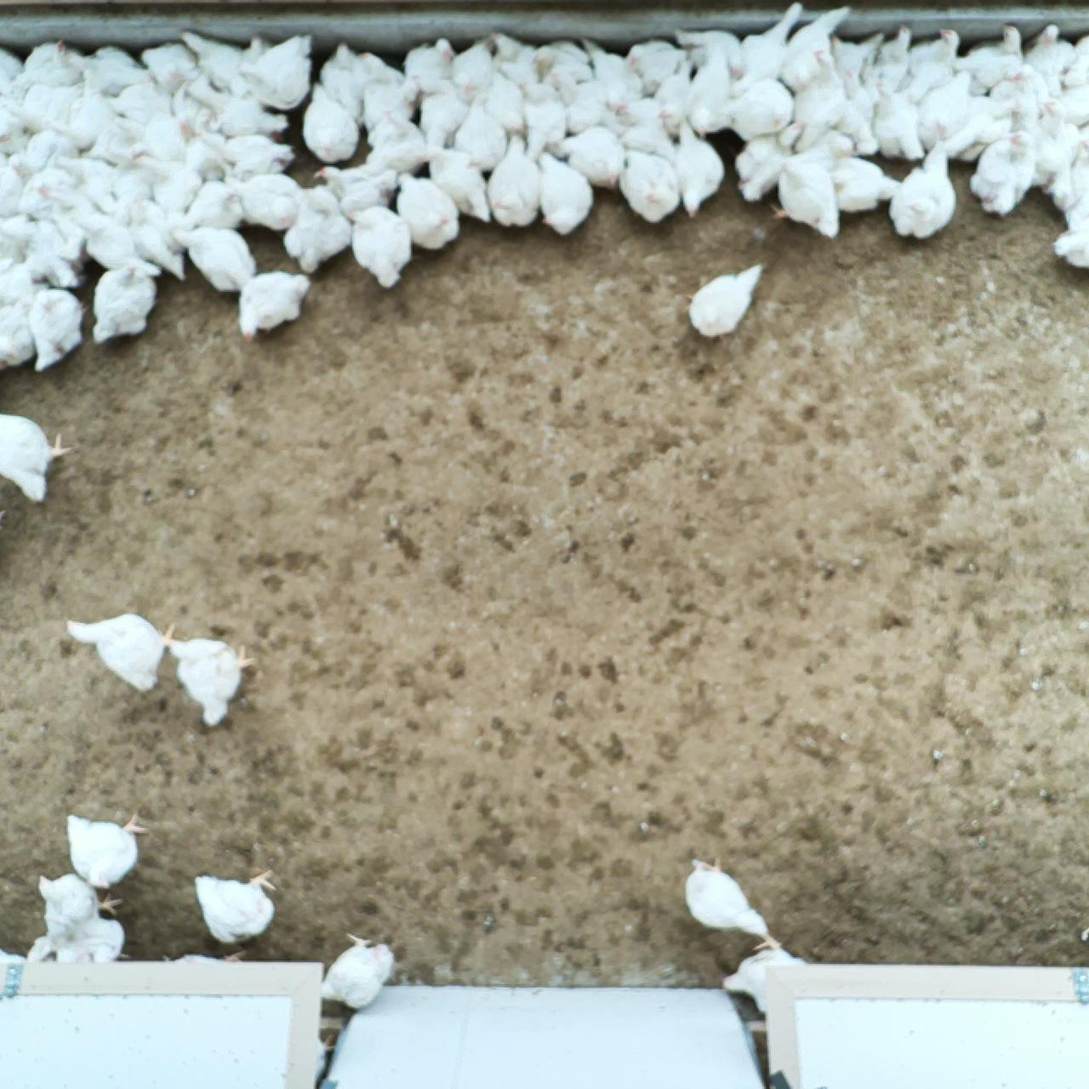chicken: (64, 604, 176, 694), (159, 628, 256, 731), (678, 853, 775, 941), (0, 404, 82, 502), (720, 932, 811, 1015), (190, 864, 281, 945), (886, 137, 958, 238), (61, 809, 145, 895), (186, 73, 291, 141), (731, 2, 806, 97), (777, 4, 852, 97), (655, 47, 733, 136), (87, 255, 164, 345), (314, 932, 398, 1013), (782, 48, 847, 152), (236, 30, 318, 110), (939, 86, 1026, 161), (166, 223, 257, 294), (37, 870, 123, 945), (948, 21, 1034, 96), (685, 260, 765, 340), (771, 149, 842, 239), (415, 140, 490, 225), (68, 207, 161, 274), (733, 119, 805, 205), (236, 264, 314, 343), (284, 183, 351, 274), (351, 49, 418, 140), (966, 131, 1036, 217), (389, 169, 462, 251), (32, 175, 102, 259), (898, 24, 968, 108), (533, 149, 597, 240), (615, 146, 687, 226), (482, 134, 543, 228), (350, 202, 414, 288), (224, 168, 305, 235), (916, 66, 983, 147), (719, 75, 795, 146), (314, 161, 400, 222), (63, 42, 156, 98), (826, 63, 881, 157), (300, 79, 360, 165), (406, 67, 468, 150), (671, 119, 724, 216), (617, 59, 697, 123), (359, 108, 432, 178), (28, 284, 86, 371), (552, 124, 626, 191), (125, 196, 185, 277), (1024, 95, 1079, 181), (544, 66, 620, 128), (1017, 22, 1079, 98), (182, 28, 250, 96), (50, 91, 122, 153), (22, 218, 83, 291), (319, 41, 371, 126), (8, 78, 88, 133), (579, 33, 638, 107), (867, 79, 922, 158), (828, 154, 899, 215), (515, 79, 569, 158), (145, 156, 204, 226), (8, 38, 83, 93), (987, 62, 1051, 126), (55, 914, 127, 970), (3, 127, 75, 183), (181, 105, 231, 184), (8, 162, 78, 218), (53, 154, 123, 210), (608, 110, 678, 166), (124, 108, 195, 163), (825, 31, 885, 96), (672, 26, 743, 80), (400, 35, 459, 99), (181, 173, 246, 231), (0, 280, 41, 371), (448, 34, 500, 103), (627, 35, 686, 95), (73, 117, 153, 161), (221, 134, 297, 180), (105, 155, 168, 209), (533, 36, 596, 90), (867, 23, 916, 92), (105, 72, 174, 119), (1047, 152, 1089, 228), (481, 70, 527, 137), (136, 42, 200, 90), (489, 28, 542, 84), (1033, 82, 1089, 128), (0, 249, 43, 307), (236, 33, 274, 94), (161, 947, 253, 972), (0, 933, 55, 971), (0, 209, 35, 263), (1058, 31, 1089, 90), (0, 151, 27, 218), (0, 48, 28, 106), (0, 105, 31, 157), (1053, 222, 1089, 266)
